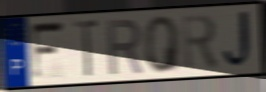F: (29, 19, 67, 83)
J: (222, 9, 256, 72)
Q: (142, 14, 182, 75)
R: (181, 12, 221, 74), (105, 18, 145, 78)
T: (72, 18, 101, 80)
